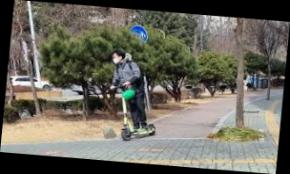nonhelmet: (102, 49, 168, 145)
